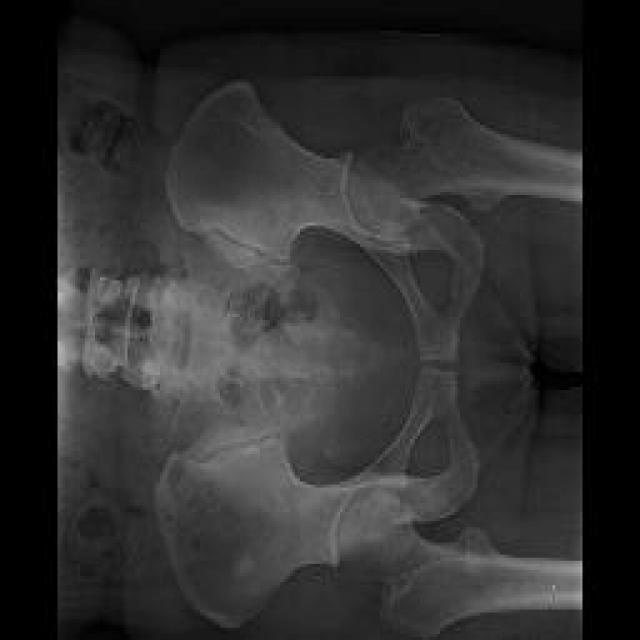normal: (167, 91, 583, 362), (161, 370, 582, 636)
